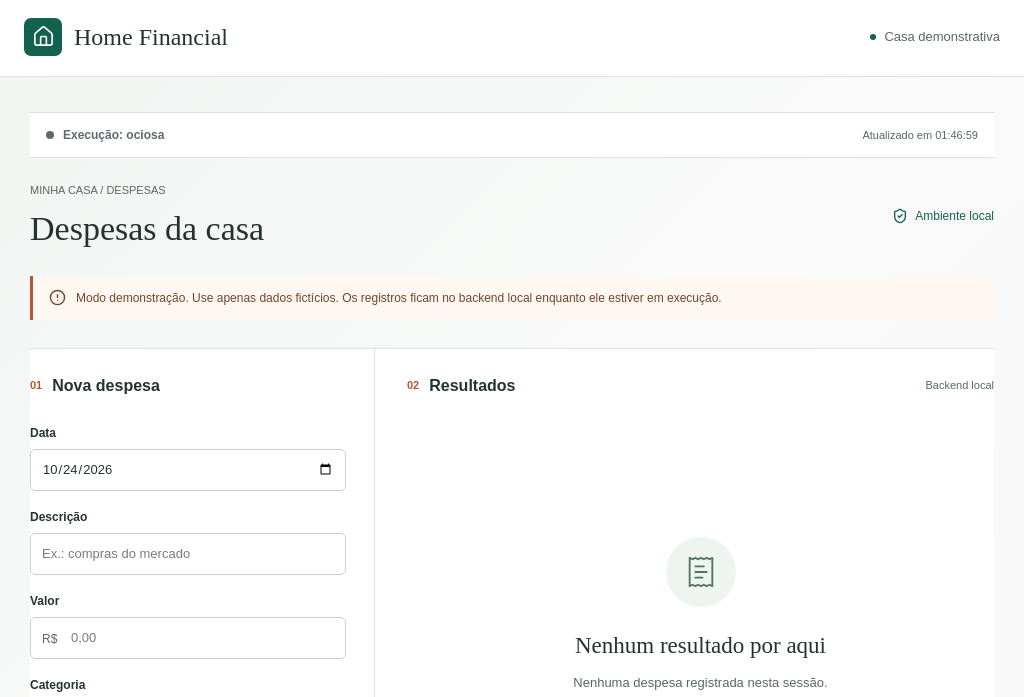
Test: form/run/results/history integration (AC-P0.3, P0.7 prototype) › asks the user to verify reviews when the pending status could not be loaded
In the date field labelled "Data": (188, 470) [30,449,346,491], type "2026-10-09"
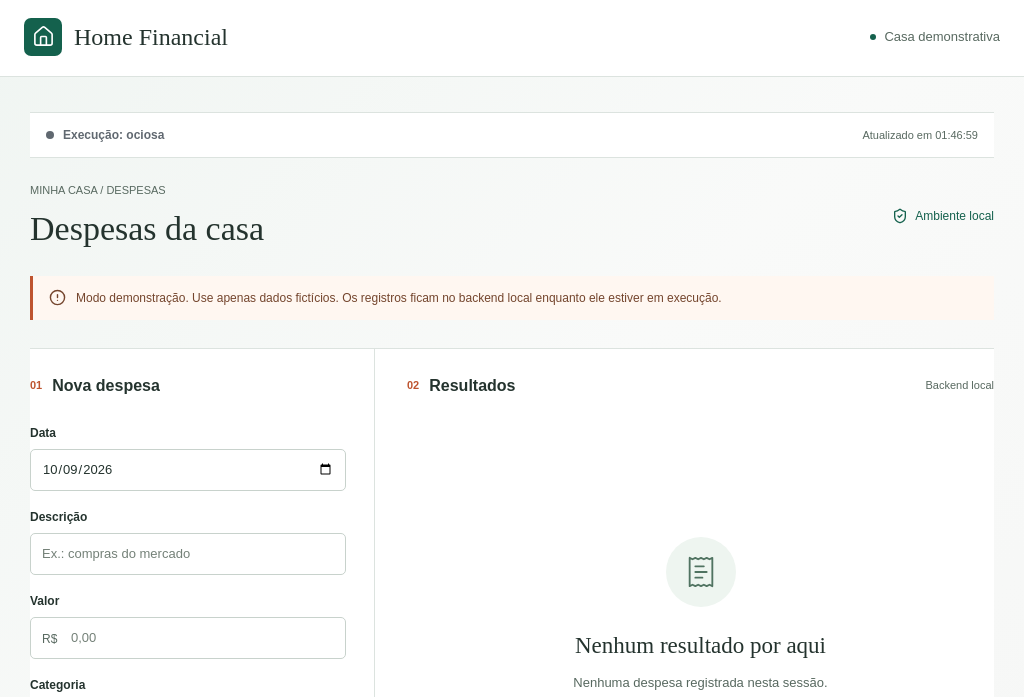
In the field labelled "Descrição": (188, 554) [30,533,346,575], type "Mercado demo"
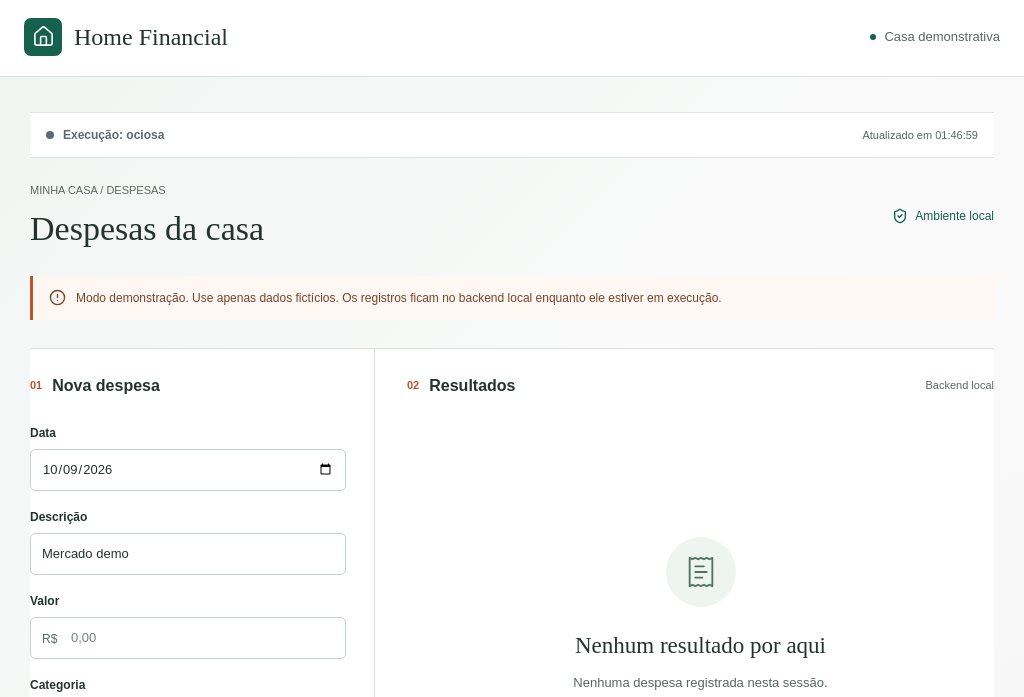
In the field labelled "Valor": (188, 638) [30,617,346,659], type "123,45"
(page scrolled)
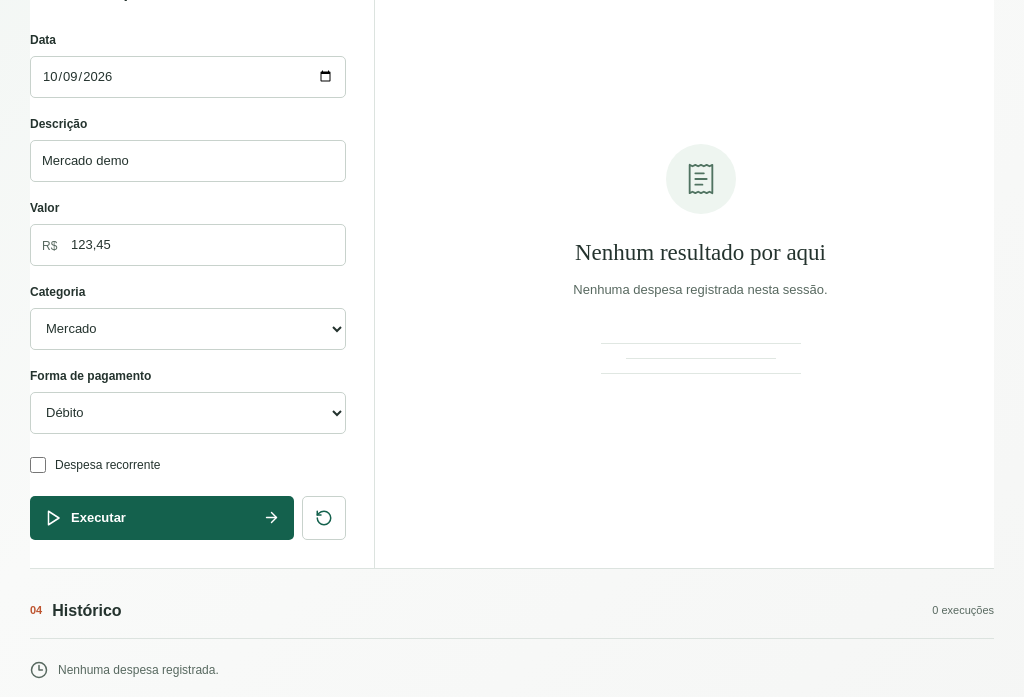
Click the button "Executar": (98, 517) [30,496,294,540]
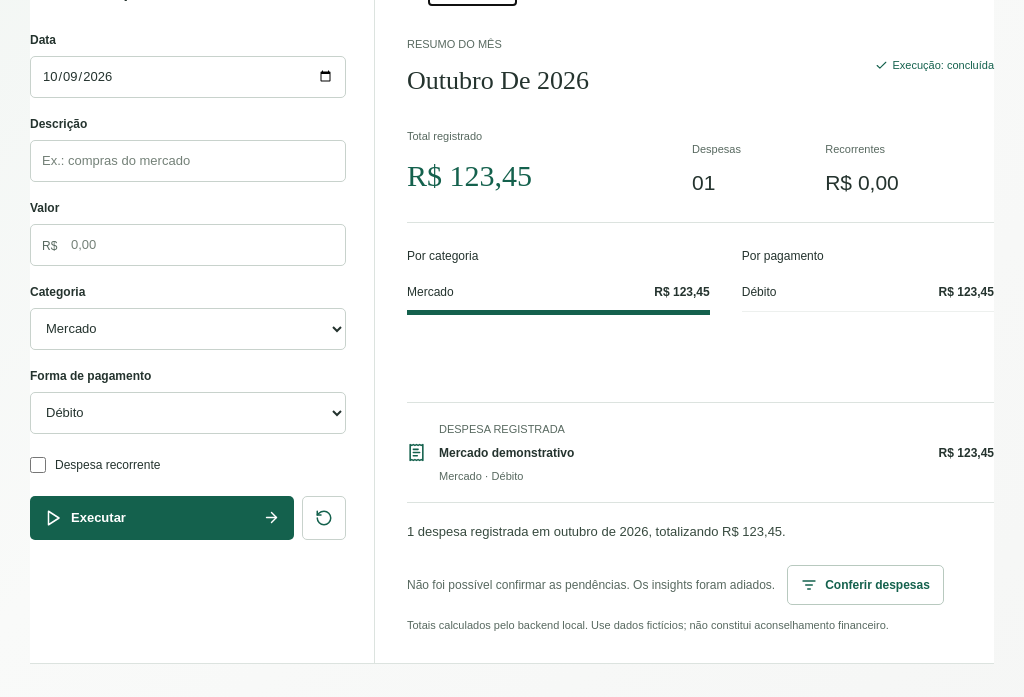
Check: the text "Não foi possível confirmar as pendências. Os insights foram adiados." is shown, box [407,576,775,595]
Check: the button "Conferir despesas" is shown, box [787,565,944,605]
